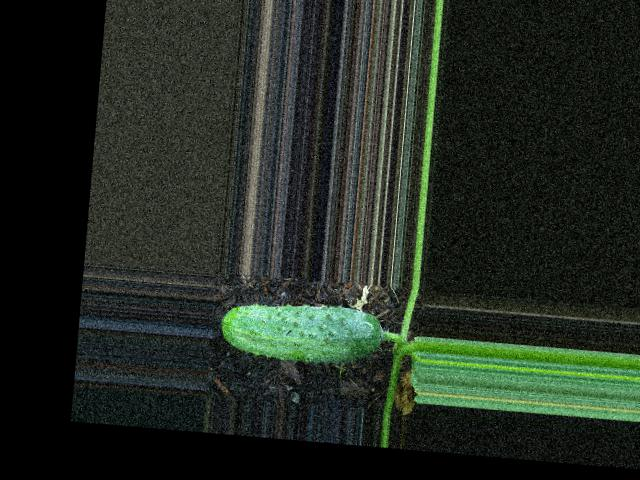cucumber: (217, 296, 384, 368)
